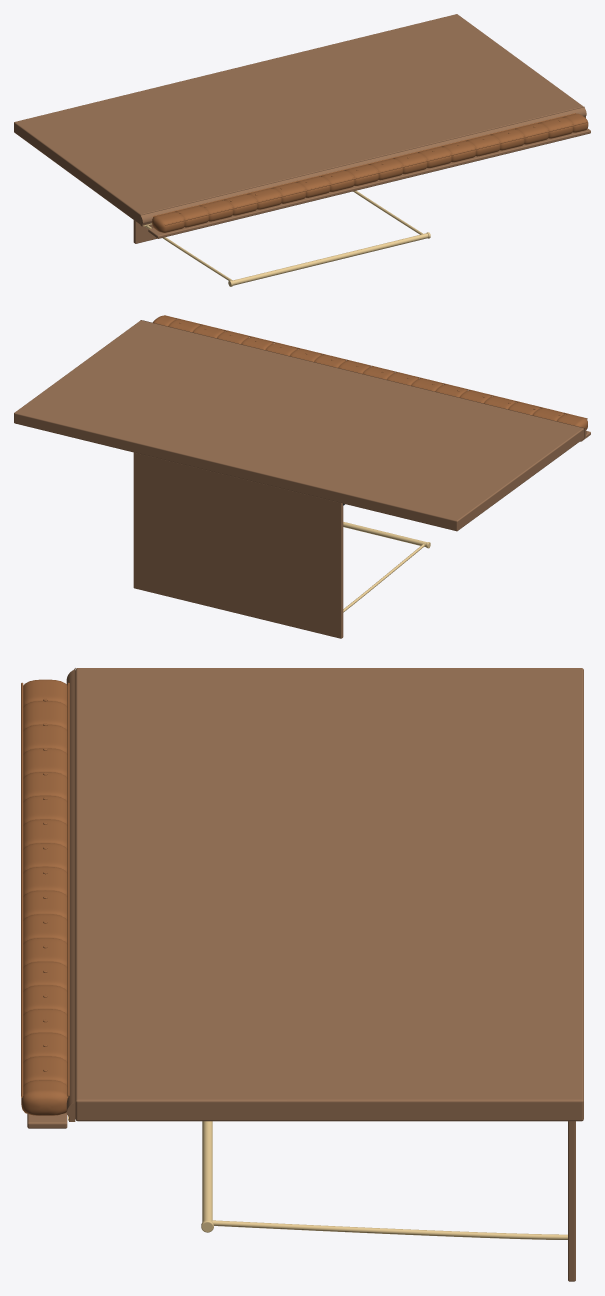
Rendered from desk_main.glb.
3 renders of one model, top to bottom at view 1: azimuth 30°, elevation 25°; view 2: azimuth 150°, elevation 25°; view 3: azimuth 270°, elevation 25°, orthographic. The views are drawn at different scales.
Visible parts, largest first — view 1: Top, Armrest, ArmRail, Edge, FootRail, Piping, Piping.001; view 2: Top, KneePanel, Armrest, Piping, FootRail, Edge; view 3: Top, Armrest, Edge, FootBracket.001, KneePanel, Piping, Piping.001, FootRail.
Boxes of the visible parts, x1,y1,x2,y2 form: Top: [14, 14, 583, 224]; Armrest: [152, 113, 588, 232]; ArmRail: [148, 128, 590, 238]; Edge: [140, 106, 586, 226]; FootRail: [232, 233, 428, 285]; Piping: [164, 121, 587, 225]; Piping.001: [153, 113, 575, 217]; Top: [14, 320, 583, 531]; KneePanel: [133, 452, 343, 638]; Armrest: [153, 315, 587, 429]; Piping: [164, 315, 587, 419]; FootRail: [343, 522, 426, 546]; Edge: [141, 320, 586, 438]; Top: [75, 668, 583, 1121]; Armrest: [21, 679, 67, 1115]; Edge: [66, 668, 75, 1121]; FootBracket.001: [212, 1220, 567, 1239]; KneePanel: [568, 1121, 575, 1281]; Piping: [21, 682, 23, 1097]; Piping.001: [67, 682, 69, 1097]; FootRail: [202, 1121, 212, 1221].
Size of the model in its own units: 2.56 by 0.818 by 1.41.
